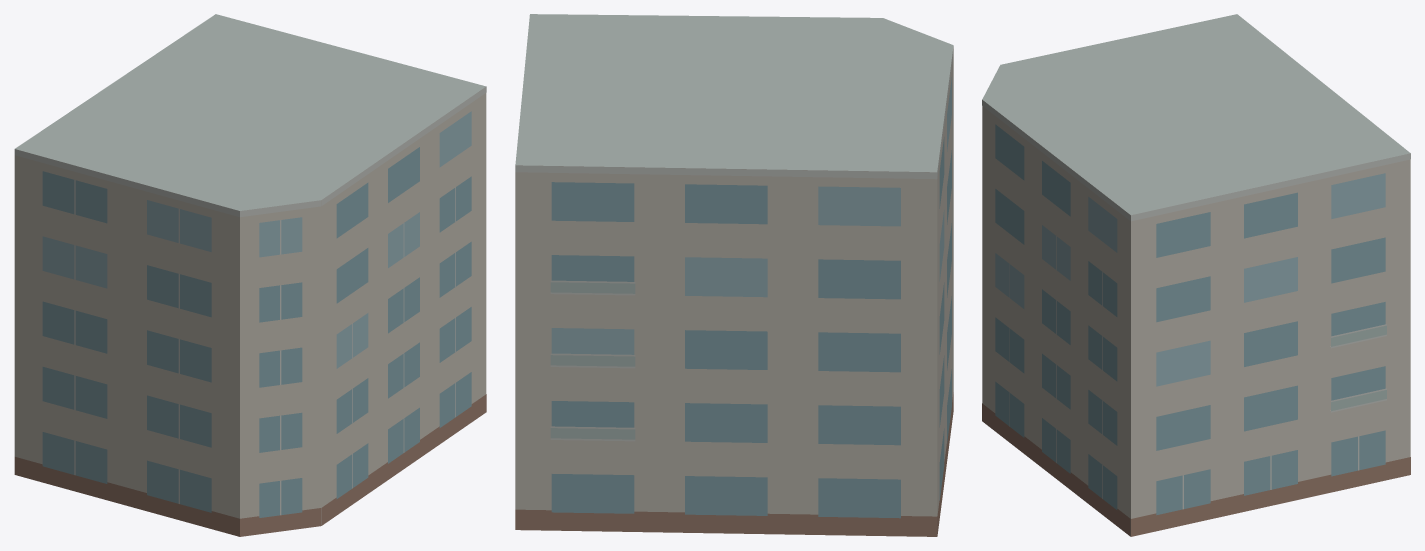
File: survey-upis-33017648.glb
The picture shows the model from 3 angles, left to right: view 1: azimuth 30°, elevation 25°; view 2: azimuth 150°, elevation 25°; view 3: azimuth 270°, elevation 25°; orthographic projection. The views are drawn at different scales.
Parts seen in each view (by area): view 1: survey-upis-33017648.tmp; view 2: survey-upis-33017648.tmp; view 3: survey-upis-33017648.tmp.
Boxes of the visible parts, left/top/right/bottom form: survey-upis-33017648.tmp: left=14, top=14, right=486, bottom=536; survey-upis-33017648.tmp: left=515, top=14, right=953, bottom=536; survey-upis-33017648.tmp: left=982, top=14, right=1410, bottom=536.
Size of the model in its own units: 17.19 by 12.8 by 15.47.
